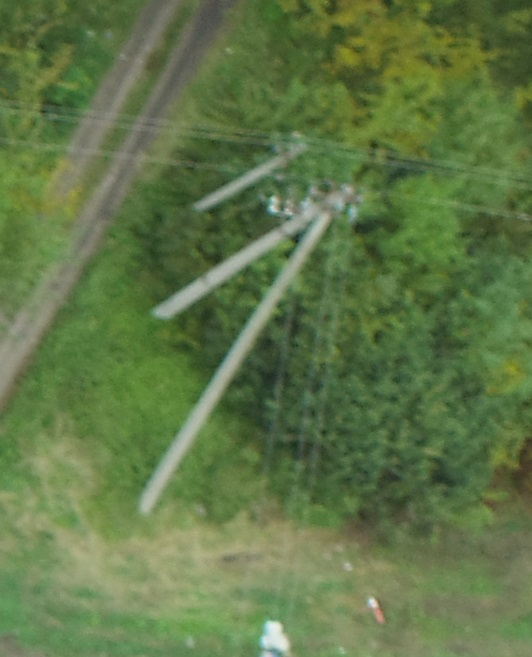opora: (135, 181, 367, 515), (194, 130, 316, 207)
